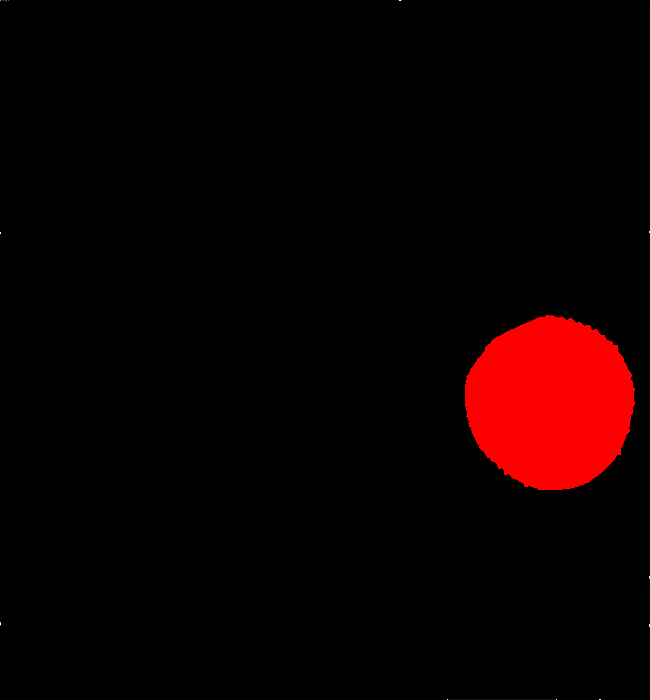stamp: (468, 314, 630, 486)
